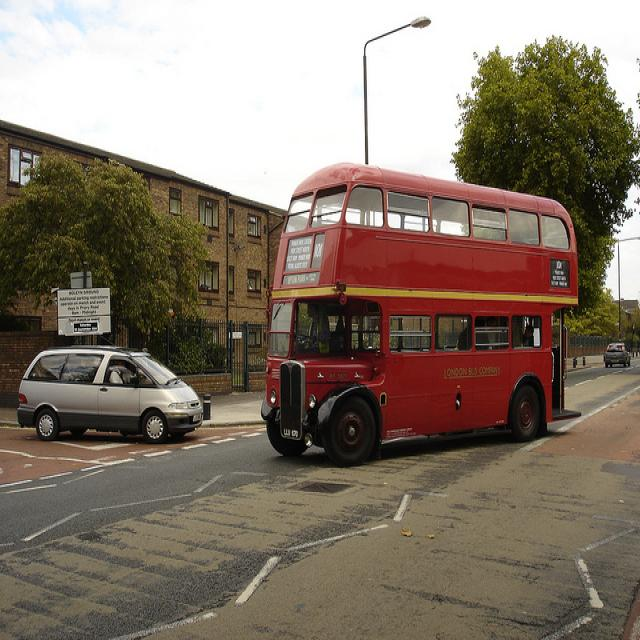Vehicle: (265, 169, 585, 465), (17, 351, 205, 438), (604, 342, 632, 368)
